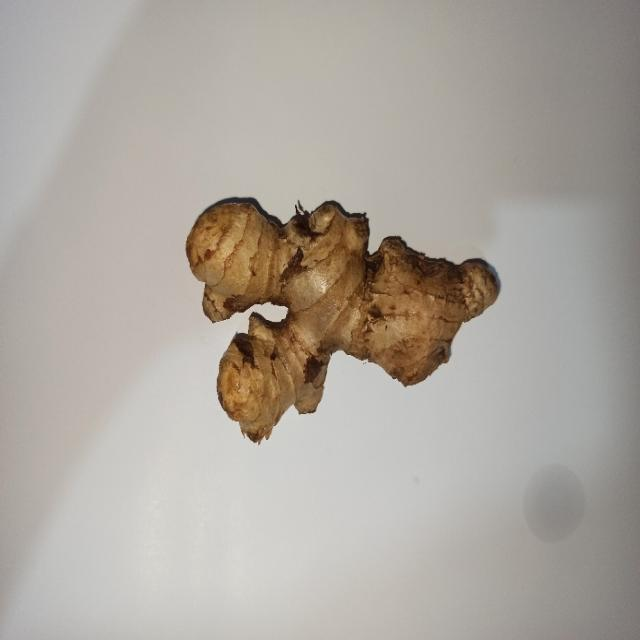ginger: (188, 199, 500, 446)
